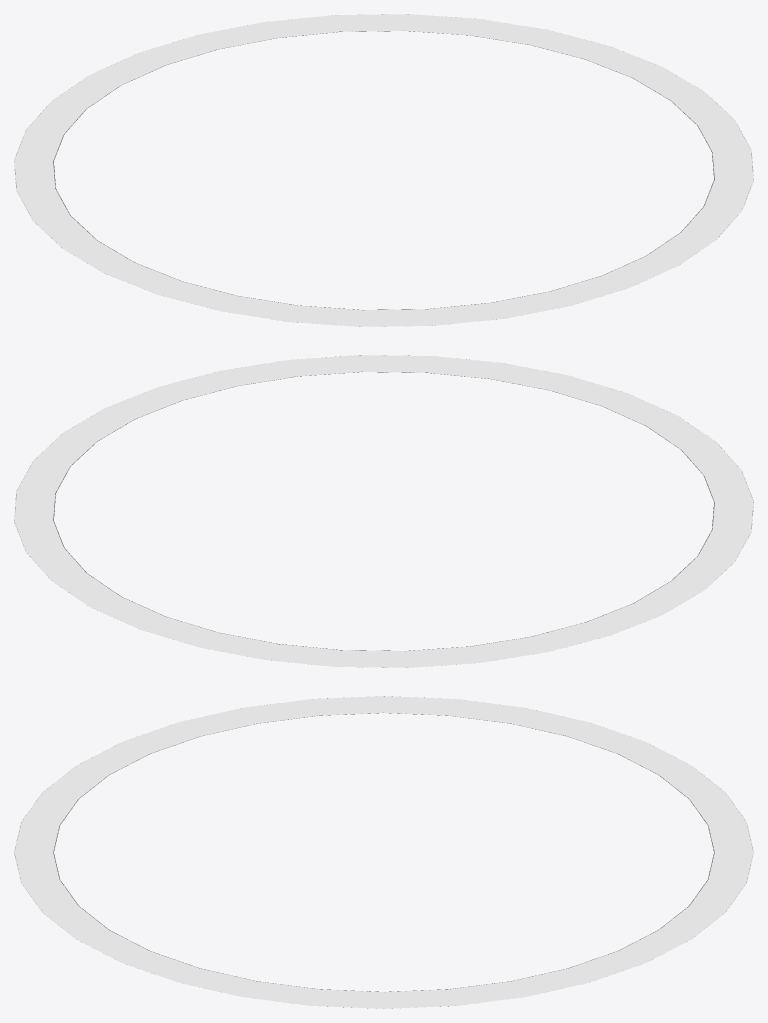
File: dropspot.fbx
3 renders of one model, top to bottom at view 1: azimuth 30°, elevation 25°; view 2: azimuth 150°, elevation 25°; view 3: azimuth 270°, elevation 25°, orthographic.
Visible parts, largest first — view 1: Circle; view 2: Circle; view 3: Circle.
Part boxes in pixels (box(x1,y1,x2,y2)): Circle: box(14, 14, 753, 326); Circle: box(14, 355, 753, 667); Circle: box(14, 696, 753, 1008).
Bounding box in the file's own units: 200 × 3.28e-05 × 200.
